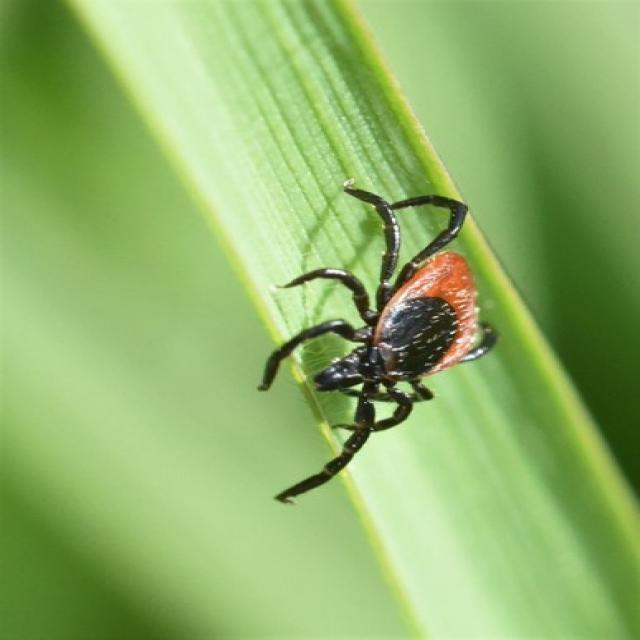Ixodes Ricinus-F: (258, 183, 501, 506)
